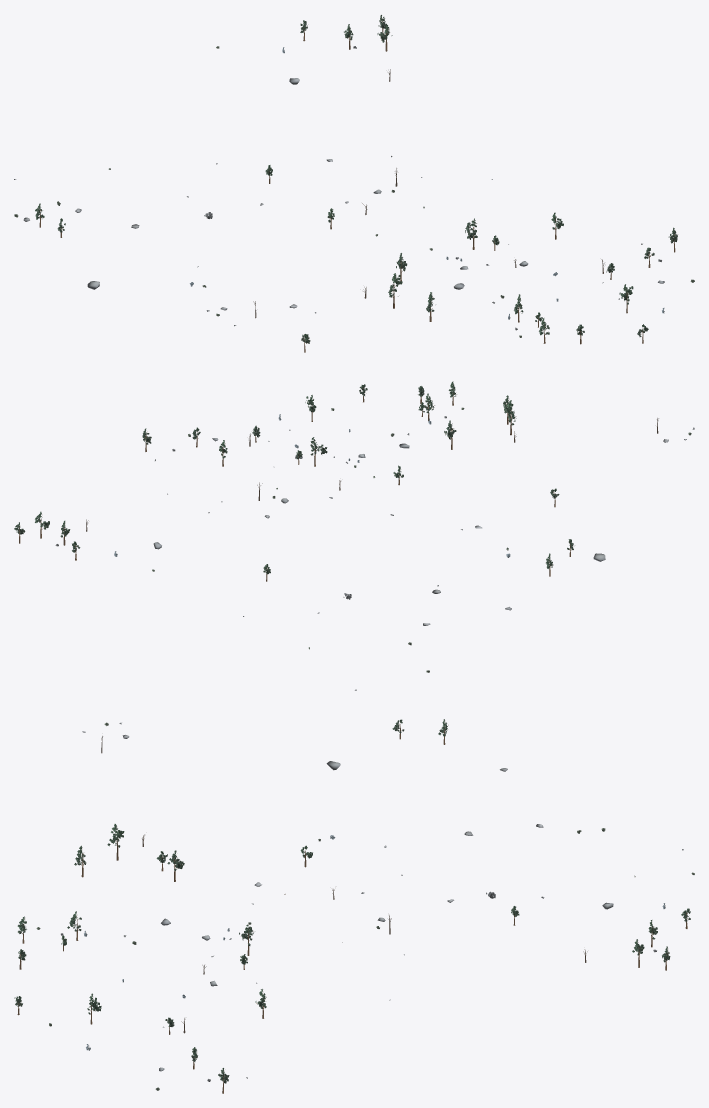
File: frost_land_scatter_c17_09.glb
The picture shows the model from 3 angles, top to bottom: view 1: azimuth 30°, elevation 25°; view 2: azimuth 150°, elevation 25°; view 3: azimuth 270°, elevation 25°; orthographic projection. The views are drawn at different scales.
Visible parts, largest first — view 1: frost_land_scatter_c17_09; view 2: frost_land_scatter_c17_09; view 3: frost_land_scatter_c17_09.
Boxes of the visible parts, x1,y1,x2,y2 form: frost_land_scatter_c17_09: [14, 15, 694, 352]; frost_land_scatter_c17_09: [14, 381, 694, 690]; frost_land_scatter_c17_09: [14, 719, 694, 1093].
Size of the model in its own units: 241 by 49.08 by 253.
